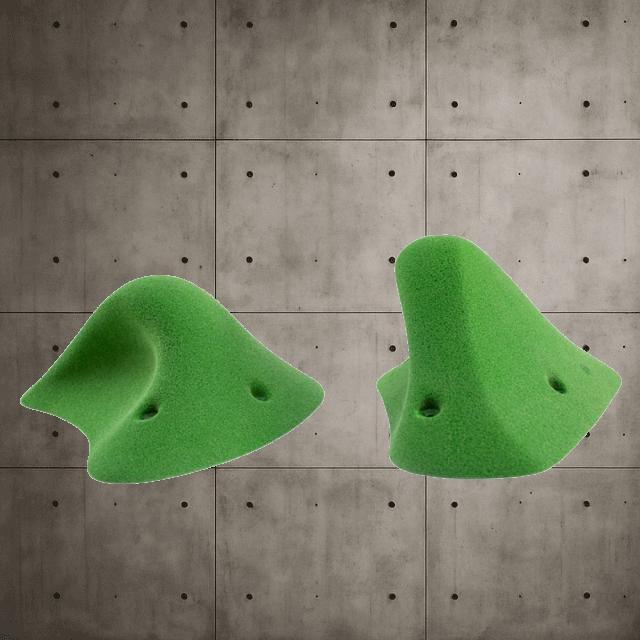Jug: (19, 272, 324, 483), (375, 232, 621, 480)
